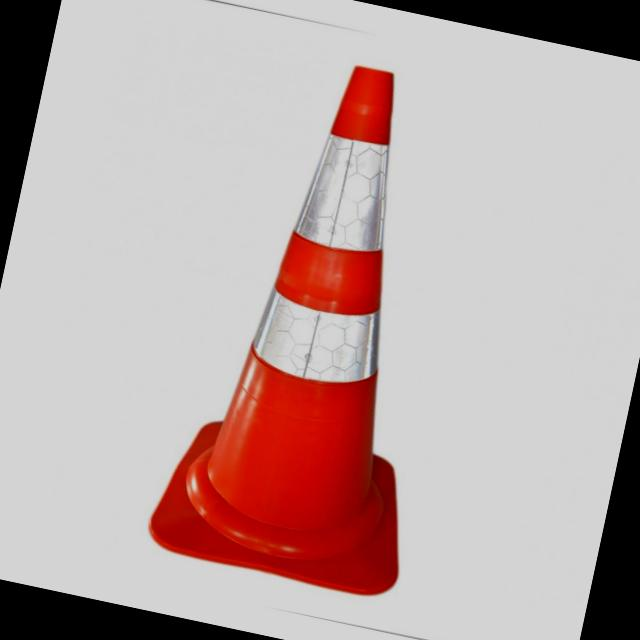cone: (117, 33, 501, 628)
